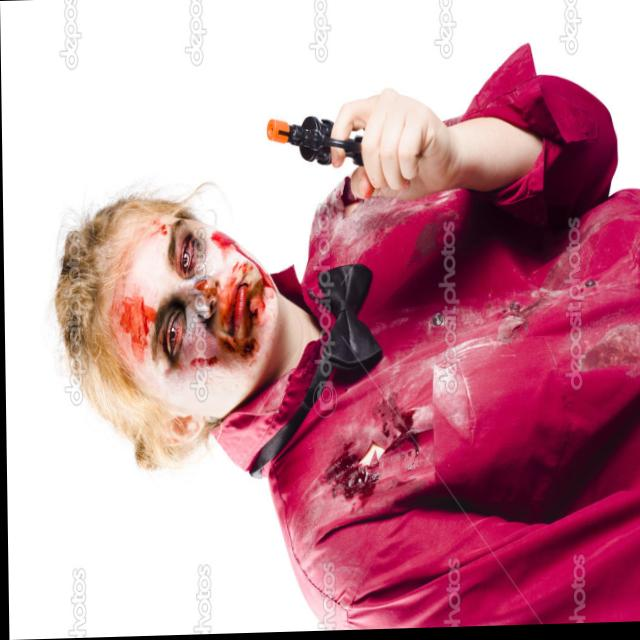handgun: (260, 95, 384, 172)
